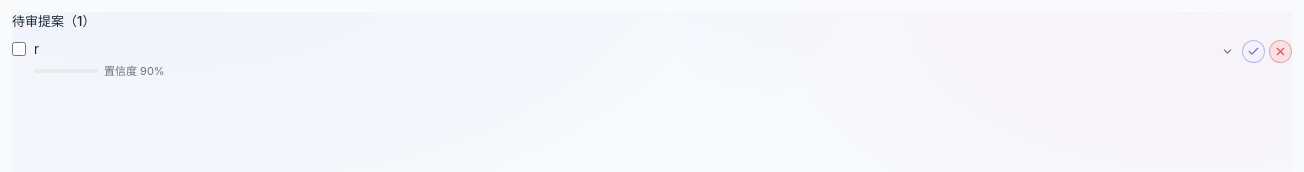
ProposalReviewPanel（GitHub 审批流范式） › ⑧ 展开 diff 明细：field: before → after
Expected: the text "f0" is not shown
Click the button named "展开变更明细".
click(1228, 51)  # box left=1217, top=40, right=1238, bottom=62
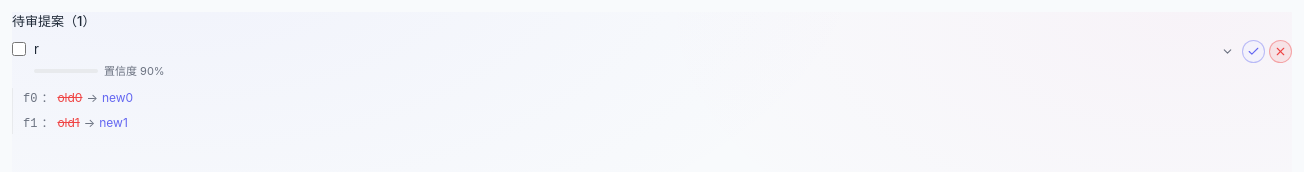
Now the text "f0" is shown, box left=23, top=92, right=37, bottom=106
Now the text "old0" is shown, box left=57, top=90, right=82, bottom=104
Now the text "new1" is shown, box left=99, top=114, right=128, bottom=130
